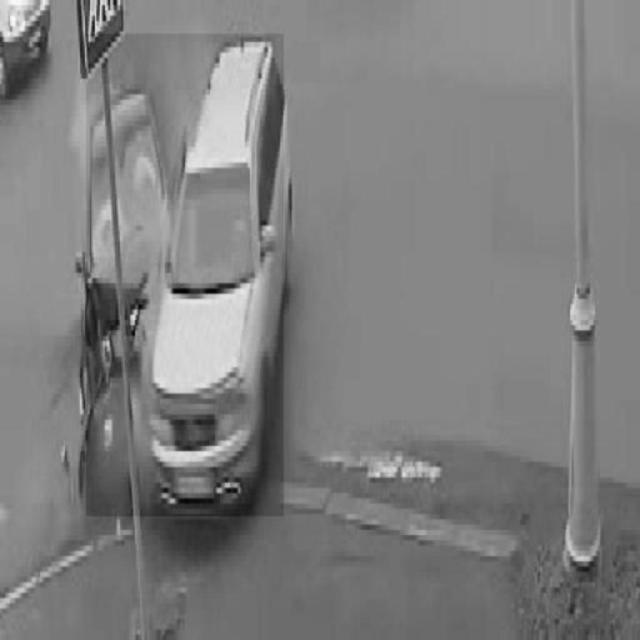accident: (87, 34, 284, 516)
